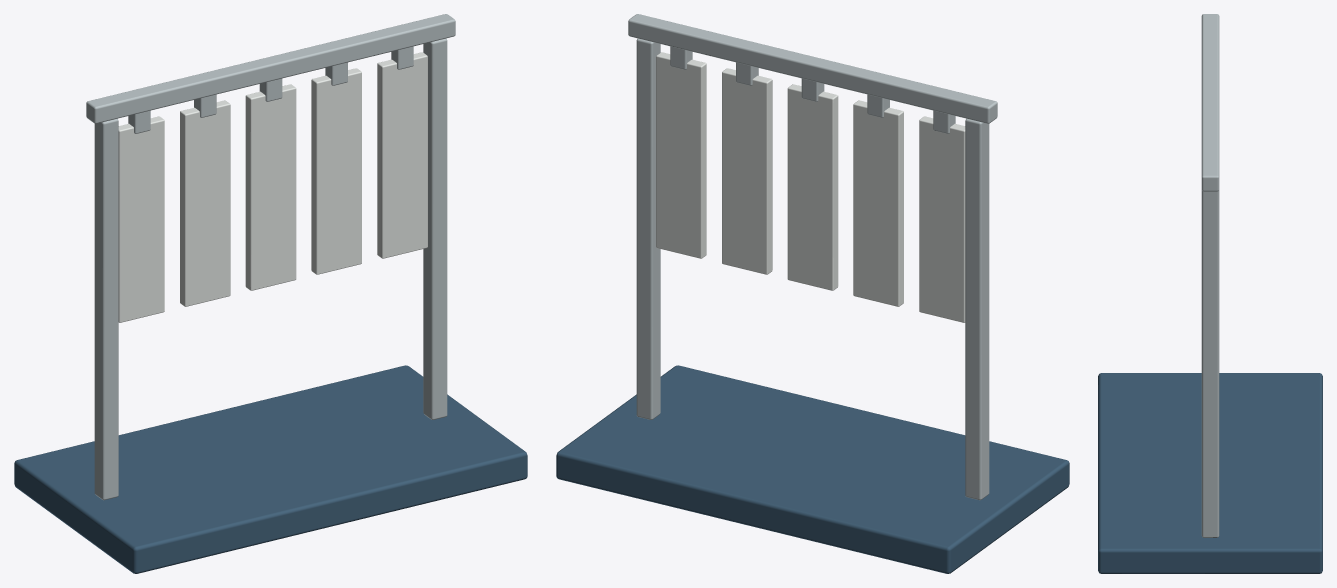
The model's file is container-inspection-and-customs-yard-container-inspec-40793c3a__29292.glb.
3 views of the same model, side by side, from view 1: azimuth 30°, elevation 25°; view 2: azimuth 150°, elevation 25°; view 3: azimuth 270°, elevation 25° (orthographic). The views are drawn at different scales.
Visible parts, largest first — view 1: container-inspection-and-customs-yard-evidence-bag-rack; view 2: container-inspection-and-customs-yard-evidence-bag-rack; view 3: container-inspection-and-customs-yard-evidence-bag-rack.
Boxes of the visible parts, <box> form: container-inspection-and-customs-yard-evidence-bag-rack: <box>14,14,527,573</box>; container-inspection-and-customs-yard-evidence-bag-rack: <box>556,14,1069,573</box>; container-inspection-and-customs-yard-evidence-bag-rack: <box>1098,14,1322,573</box>.
Bounding box in the file's own units: 0.6 × 0.615 × 0.32.
